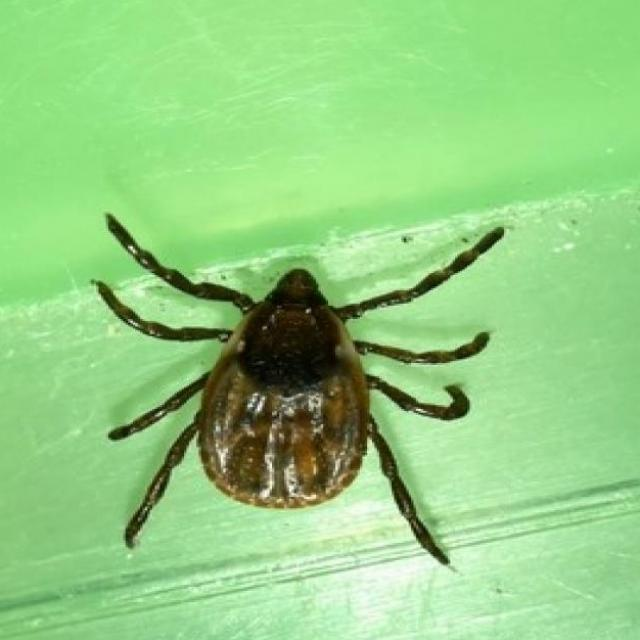Rhipicephalus Sanguineus-F: (94, 212, 506, 568)
